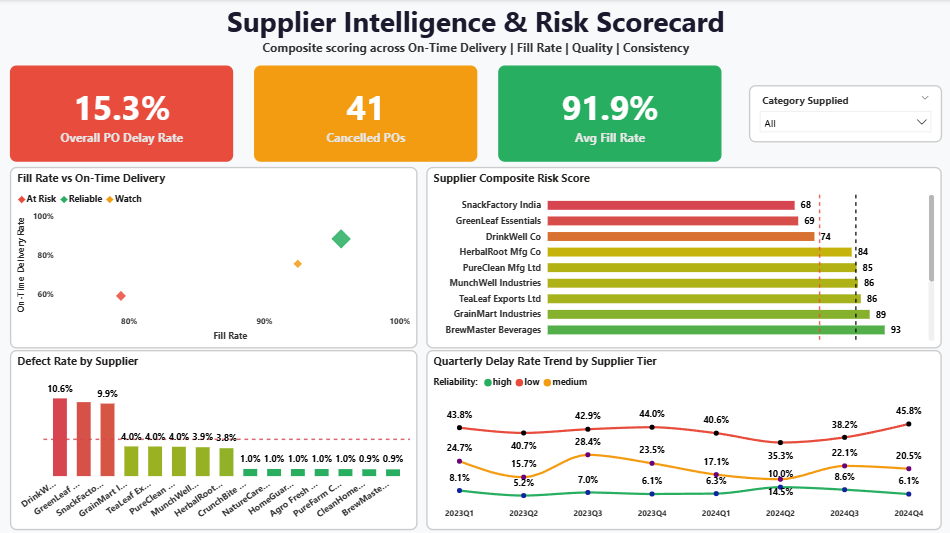

The page's visual inventory and layout, read from the dashboard file:
{"tool":"powerbi","page":{"name":"Supplier Intelligence","canvas":[1280,720],"ordinal":1},"visuals":[{"type":"textbox","box":[1.5,0,1278.6,81],"z":0},{"type":"card","fields":{"Values":["_Measures.Overall Fill Rate"]},"box":[670.9,89.1,300.3,129.8],"z":1000},{"type":"card","fields":{"Values":["_Measures.Overall Delay Rate"]},"box":[14.1,89.1,300.3,129.8],"z":2000},{"type":"card","fields":{"Values":["_Measures.Total Cancelled POs"]},"box":[342.5,89.1,300.3,129.8],"z":3000},{"type":"lineChart","title":"Quarterly Delay Rate Trend by Supplier Tier","fields":{"Category":["purchase_orders.order_quarter"],"Y":["_Measures.Overall Delay Rate"],"Series":["suppliers.reliability_tier"]},"box":[573.9,472.3,692.8,242.4],"z":4000},{"type":"clusteredBarChart","title":"Supplier Composite Risk Score","fields":{"Y":["Sum(supplier_scorecard.composite_score)"],"Category":["supplier_scorecard.supplier_name"]},"box":[573.9,225.2,692.8,244],"z":5000},{"type":"scatterChart","title":"Fill Rate vs On-Time Delivery","fields":{"X":["Avg(supplier_scorecard.avg_fill_rate)"],"Y":["Avg(supplier_scorecard.on_time_delivery_rate)"],"Size":["Sum(supplier_scorecard.total_po_value_inr)"],"Series":["supplier_scorecard.risk_category"]},"box":[14.1,225.2,547.4,244],"z":6000},{"type":"clusteredColumnChart","title":"Defect Rate by Supplier","fields":{"Category":["supplier_scorecard.supplier_name"],"Y":["Avg(supplier_scorecard.avg_defect_rate)"]},"box":[14.1,472.3,547.4,242.4],"z":7000},{"type":"slicer","fields":{"Values":["suppliers.category_supplied"]},"box":[1007.1,115.7,259.6,76.6],"z":8000}]}

Visuals, with their boxes in screenshot pixels (x1, y1, x2, y2), scaled from the page's 1280x720 canvas onto the 950x533 screenshot:
textbox: (1, 0, 949, 60)
card - _Measures.Overall Fill Rate: (498, 66, 721, 162)
card - _Measures.Overall Delay Rate: (10, 66, 233, 162)
card - _Measures.Total Cancelled POs: (254, 66, 477, 162)
"Quarterly Delay Rate Trend by Supplier Tier" lineChart: (426, 350, 940, 529)
"Supplier Composite Risk Score" clusteredBarChart: (426, 167, 940, 347)
"Fill Rate vs On-Time Delivery" scatterChart: (10, 167, 417, 347)
"Defect Rate by Supplier" clusteredColumnChart: (10, 350, 417, 529)
slicer - suppliers.category_supplied: (747, 86, 940, 142)
